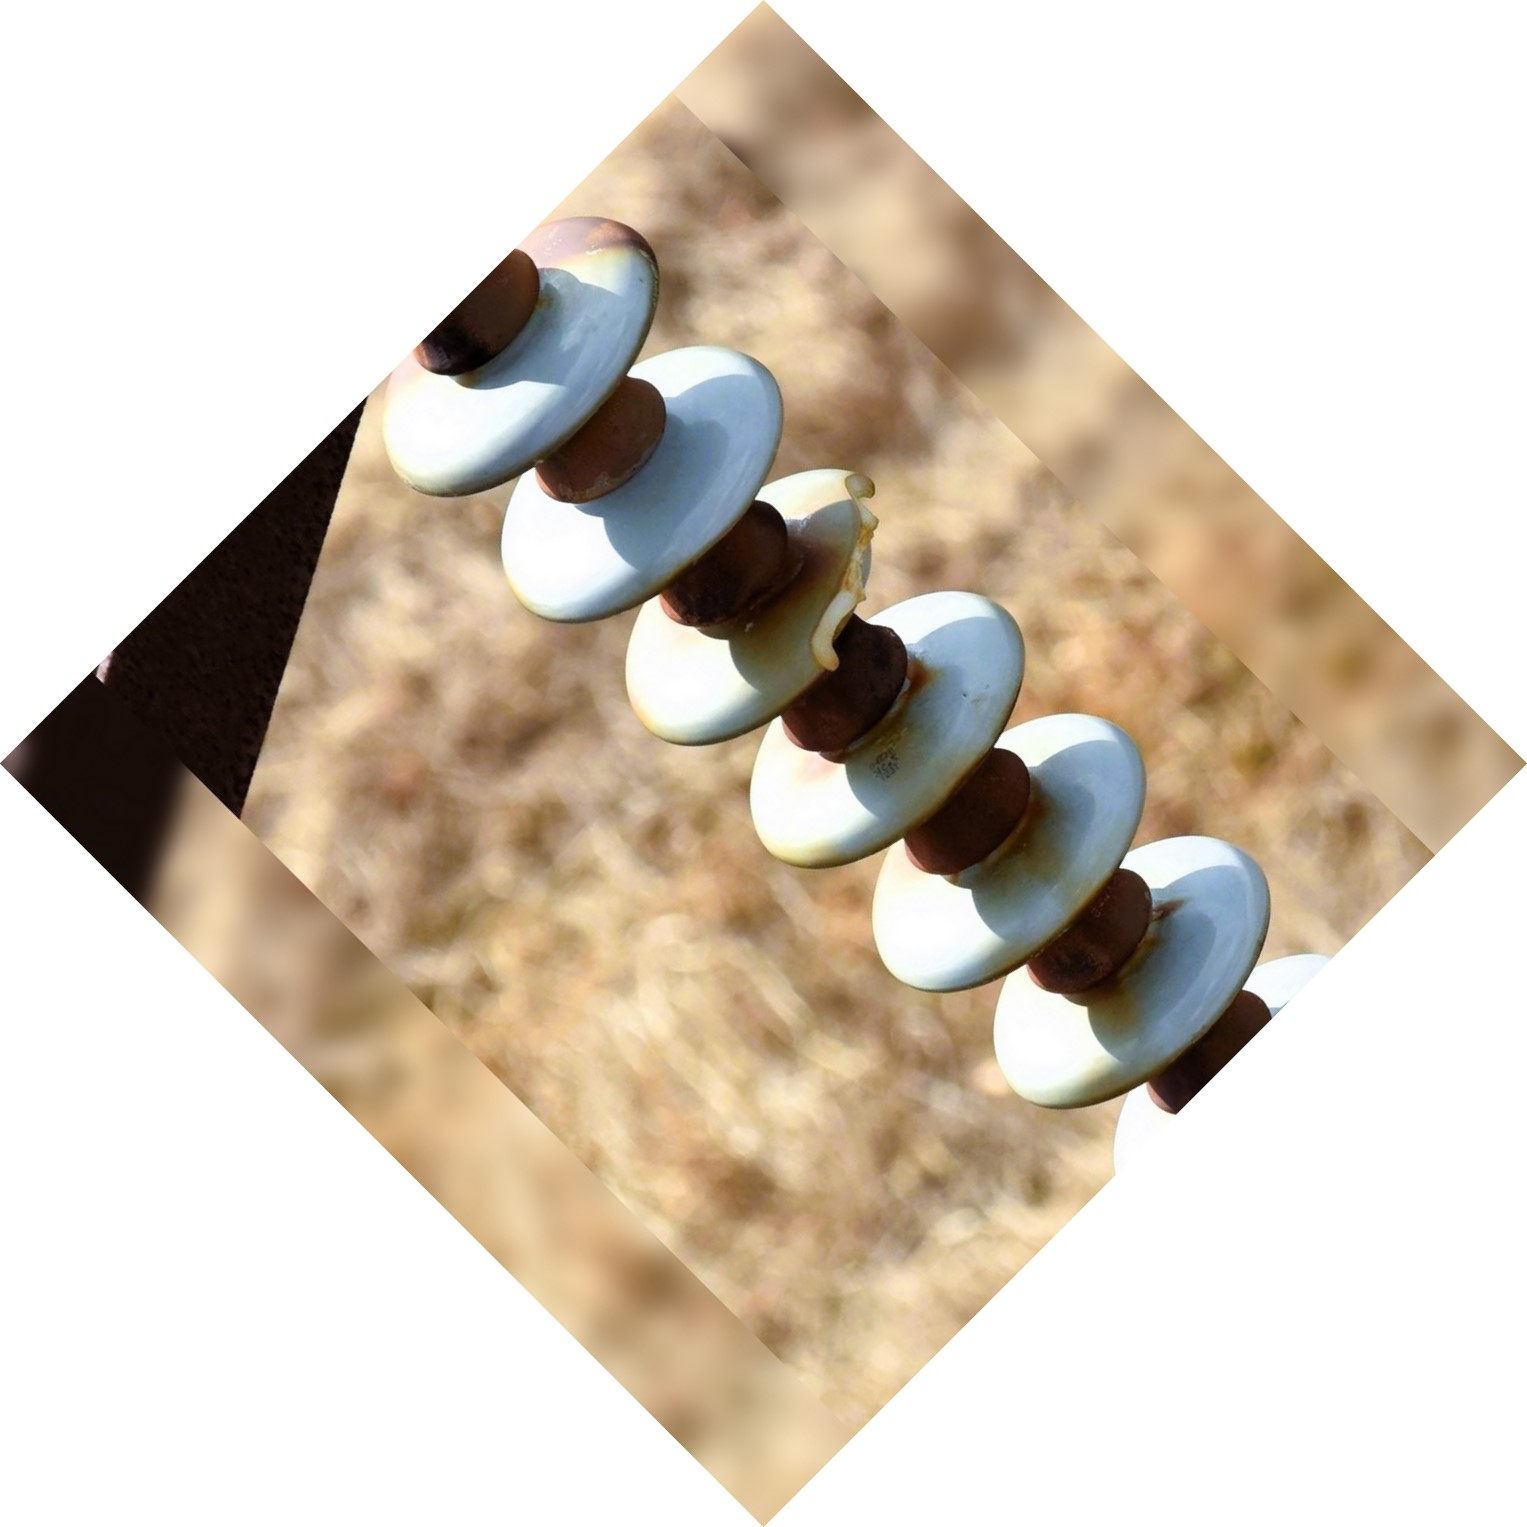insulator breakage: (598, 459, 916, 747)
